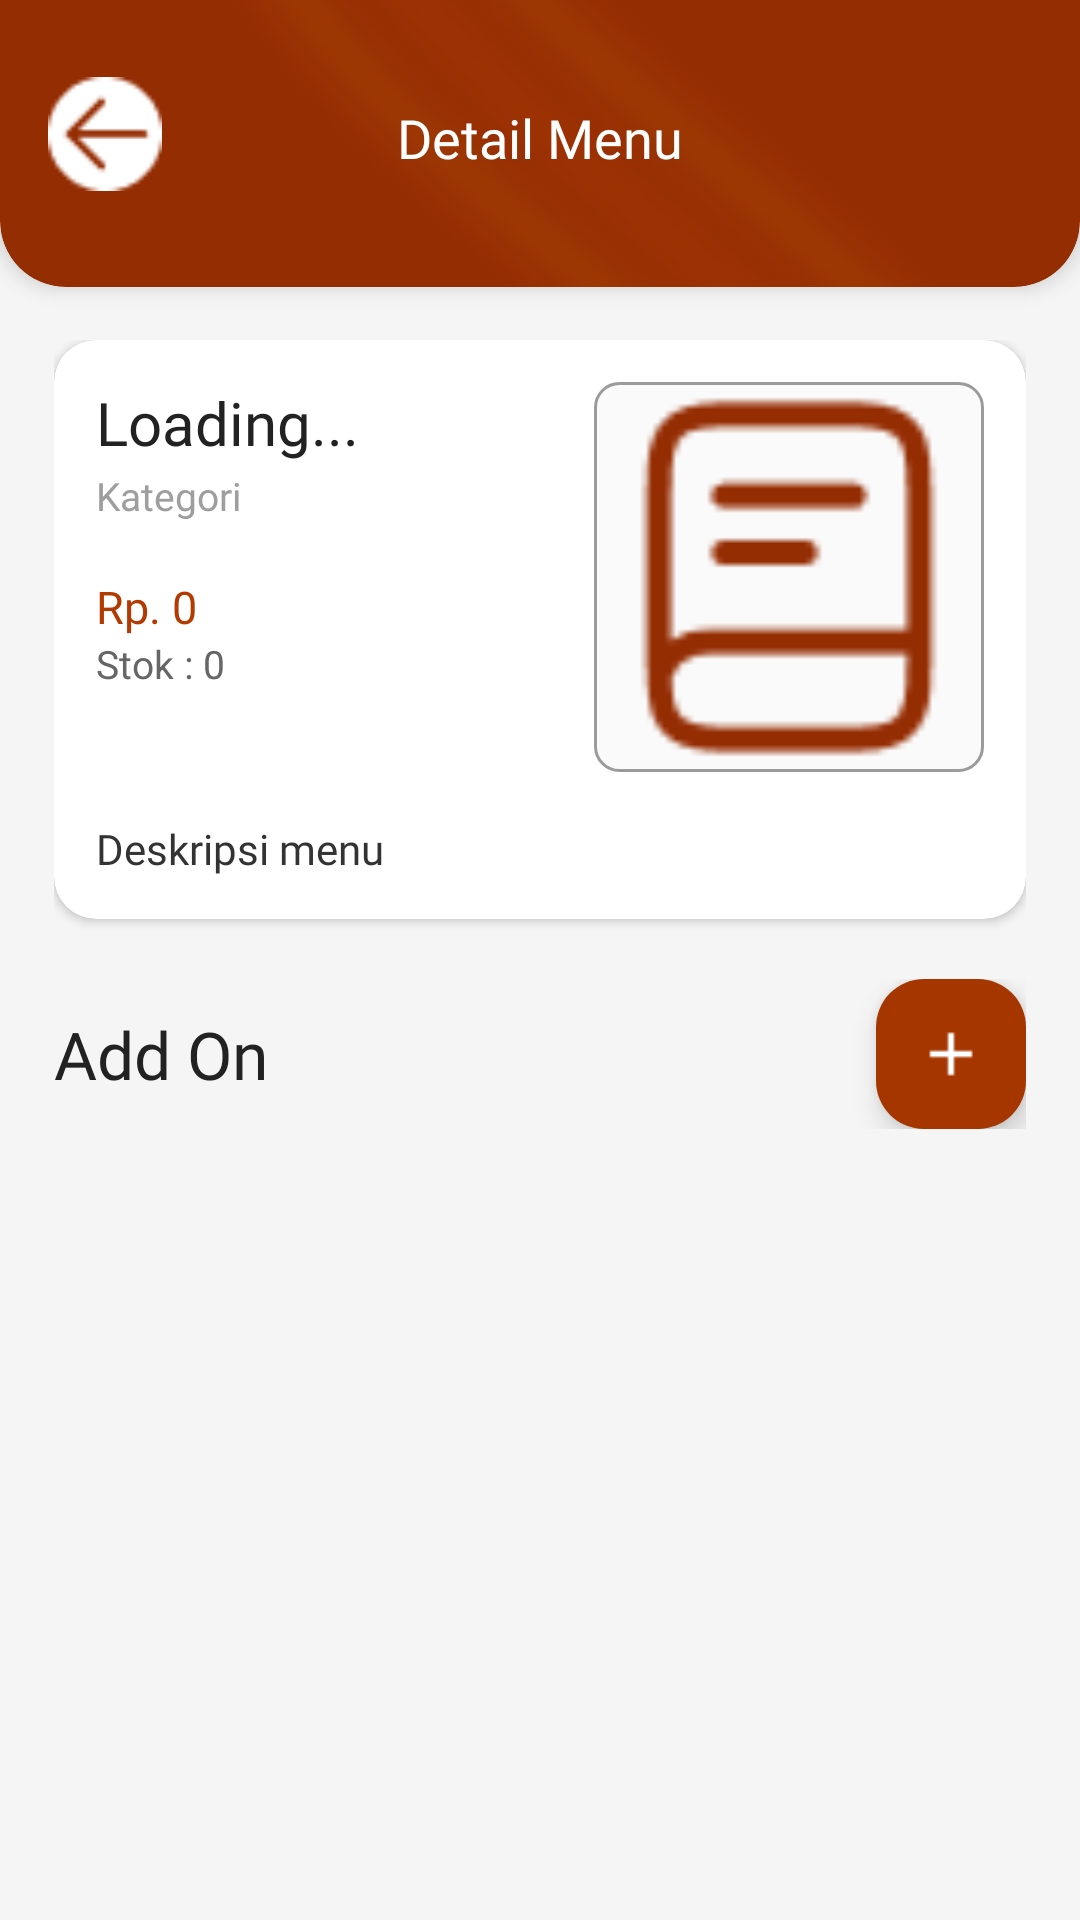

Icon click points for this 1080×1920 phone screenshot, format [x,y]:
back: [105,134]
plus: [951,1054]
